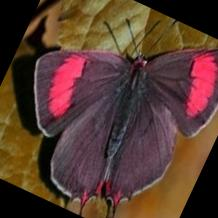butterfly: (33, 49, 218, 210)
